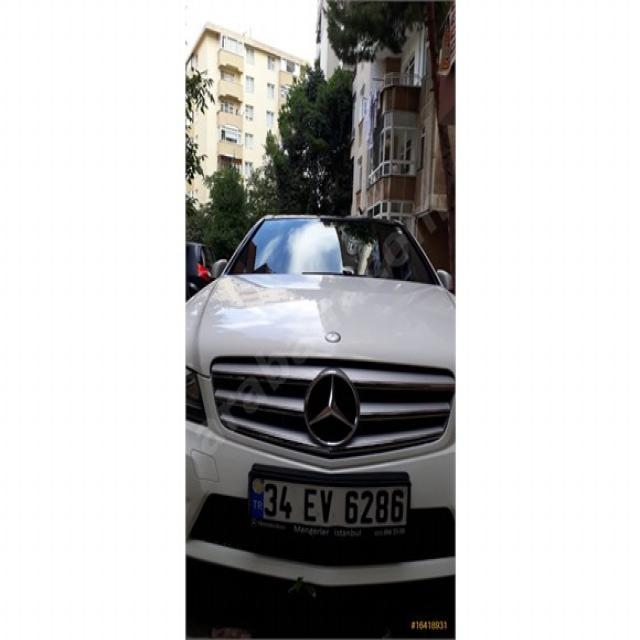plate: (247, 465, 414, 542)
